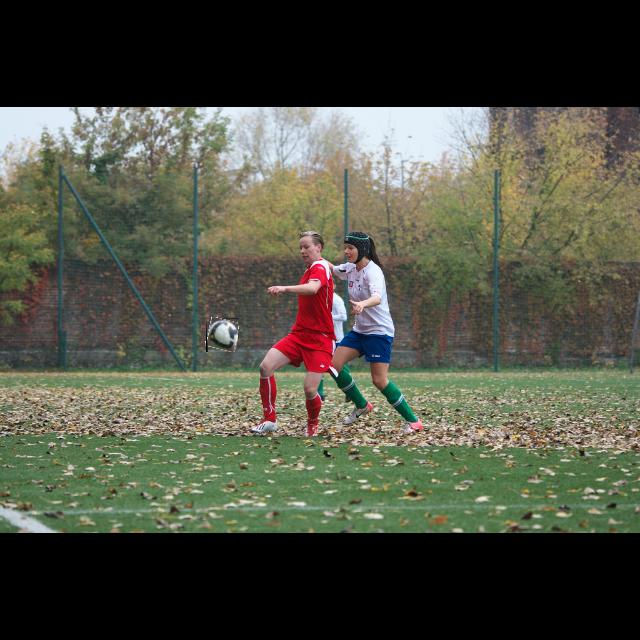Football: (206, 318, 238, 352)
